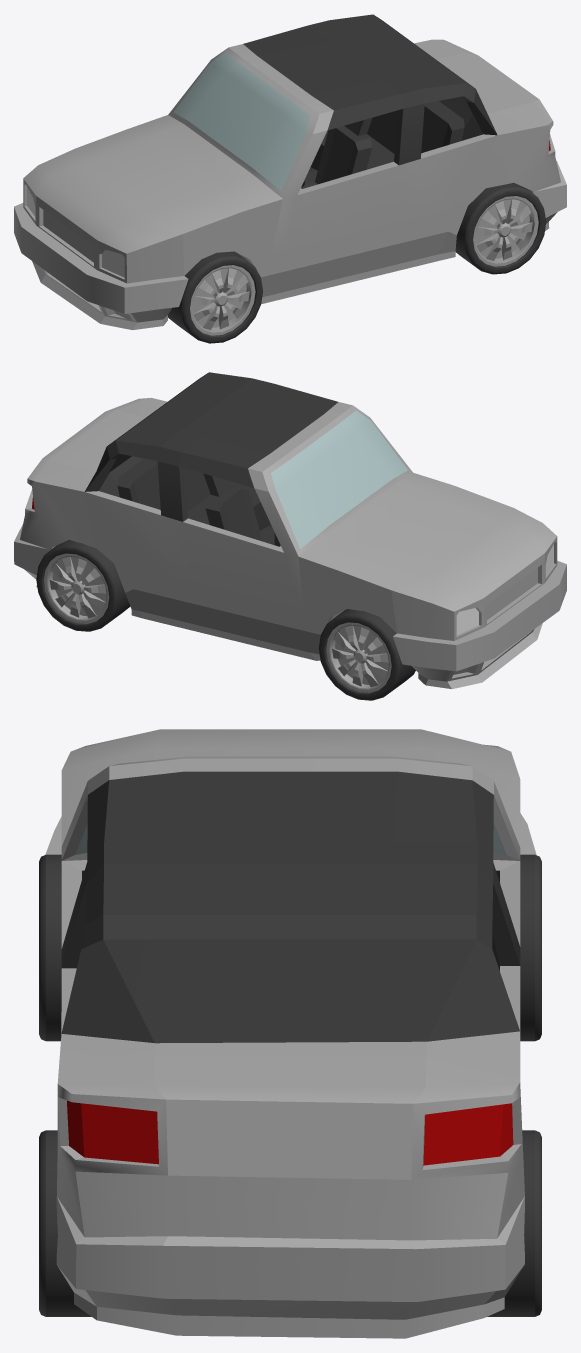
Rendered from Car_002.fbx.
3 renders of one model, top to bottom at view 1: azimuth 30°, elevation 25°; view 2: azimuth 150°, elevation 25°; view 3: azimuth 270°, elevation 25°, orthographic. The views are drawn at different scales.
Visible parts, largest first — view 1: CarBody1, Wiel_BackLeft1, Wiel_FrontLeft1; view 2: CarBody1, Wiel_BackRight1, Wiel_FrontRight1; view 3: CarBody1, Wiel_FrontLeft1, Wiel_BackLeft1, Wiel_BackRight1, Wiel_FrontRight1.
Boxes of the visible parts, x1,y1,x2,y2 form: CarBody1: (14,14,566,330); Wiel_BackLeft1: (455,182,546,274); Wiel_FrontLeft1: (168,251,262,343); CarBody1: (14,372,566,688); Wiel_BackRight1: (36,539,130,631); Wiel_FrontRight1: (318,609,415,700); CarBody1: (45,729,536,1338); Wiel_FrontLeft1: (39,854,61,1041); Wiel_BackLeft1: (39,1130,91,1316); Wiel_BackRight1: (487,1130,541,1316); Wiel_FrontRight1: (520,854,541,1041).
Bounding box in the file's own units: 1.08 × 0.4177 × 0.4984.
